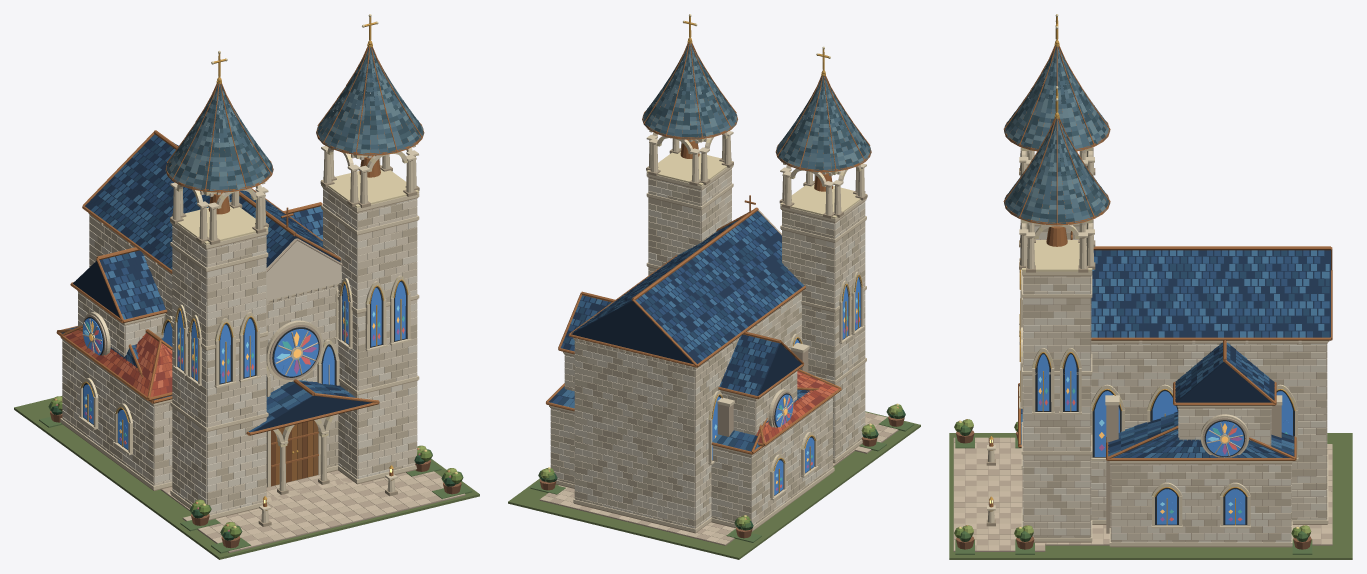
The model's file is church-nivel-5.glb.
3 views of the same model, side by side, from view 1: azimuth 30°, elevation 25°; view 2: azimuth 150°, elevation 25°; view 3: azimuth 270°, elevation 25° (orthographic). The views are drawn at different scales.
Visible parts, largest first — view 1: Igreja 05 #e8dcc5, Igreja 05 #e6d7ba, Igreja 05 #eae1ce, Igreja 05 #ded1b9, Igreja 05 #cec1a8, Igreja 05 #20354f, Igreja 05 #a76e42, Igreja 05 #406c9f, Igreja 05 #6c7d4e, Igreja 05 #c1af99, Igreja 05 #eadbb2, Igreja 05 #d3c3a9 (+24 smaller); view 2: Igreja 05 #ded1b9, Igreja 05 #eae1ce, Igreja 05 #e8dcc5, Igreja 05 #cec1a8, Igreja 05 #20354f, Igreja 05 #e6d7ba, Igreja 05 #a76e42, Igreja 05 #6c7d4e, Igreja 05 #355c80, Igreja 05 #284763, Igreja 05 #2d4d71, Igreja 05 #eadbb2 (+16 smaller); view 3: Igreja 05 #20354f, Igreja 05 #ded1b9, Igreja 05 #e8dcc5, Igreja 05 #eae1ce, Igreja 05 #cec1a8, Igreja 05 #e6d7ba, Igreja 05 #6c7d4e, Igreja 05 #a76e42, Igreja 05 #b3a390, Igreja 05 #426e90, Igreja 05 #2d4d71, Igreja 05 #406c9f (+17 smaller).
Boxes of the visible parts, box(x1,y1,x2,y2) form: Igreja 05 #e8dcc5: box(62, 188, 417, 515); Igreja 05 #e6d7ba: box(60, 145, 419, 522); Igreja 05 #eae1ce: box(62, 189, 417, 512); Igreja 05 #ded1b9: box(67, 145, 417, 509); Igreja 05 #cec1a8: box(62, 193, 417, 506); Igreja 05 #20354f: box(61, 137, 371, 431); Igreja 05 #a76e42: box(56, 46, 424, 506); Igreja 05 #406c9f: box(83, 282, 405, 449); Igreja 05 #6c7d4e: box(14, 396, 479, 559); Igreja 05 #c1af99: box(82, 238, 442, 551); Igreja 05 #eadbb2: box(80, 14, 419, 447); Igreja 05 #d3c3a9: box(82, 319, 453, 549); Igreja 05 #ded1b9: box(550, 130, 865, 528); Igreja 05 #eae1ce: box(550, 179, 865, 528); Igreja 05 #e8dcc5: box(550, 175, 865, 525); Igreja 05 #cec1a8: box(550, 179, 865, 526); Igreja 05 #20354f: box(548, 211, 809, 449); Igreja 05 #e6d7ba: box(549, 130, 866, 532); Igreja 05 #a76e42: box(546, 43, 871, 454); Igreja 05 #6c7d4e: box(508, 411, 920, 559); Igreja 05 #355c80: box(573, 216, 806, 449); Igreja 05 #284763: box(556, 211, 806, 451); Igreja 05 #2d4d71: box(552, 221, 800, 448); Igreja 05 #eadbb2: box(646, 14, 866, 471); Igreja 05 #20354f: box(1019, 250, 1330, 457); Igreja 05 #ded1b9: box(1020, 147, 1329, 542); Igreja 05 #e8dcc5: box(1022, 228, 1327, 542); Igreja 05 #eae1ce: box(1022, 226, 1327, 542); Igreja 05 #cec1a8: box(1022, 228, 1327, 542); Igreja 05 #e6d7ba: box(987, 151, 1328, 546); Igreja 05 #6c7d4e: box(949, 433, 1352, 559); Igreja 05 #a76e42: box(989, 46, 1332, 507); Igreja 05 #b3a390: box(1024, 228, 1326, 542); Igreja 05 #426e90: box(1021, 250, 1329, 457); Igreja 05 #2d4d71: box(1021, 250, 1329, 457); Igreja 05 #406c9f: box(1037, 354, 1292, 524).
Bounding box in the file's own units: 13.75 × 22.98 × 18.77.
